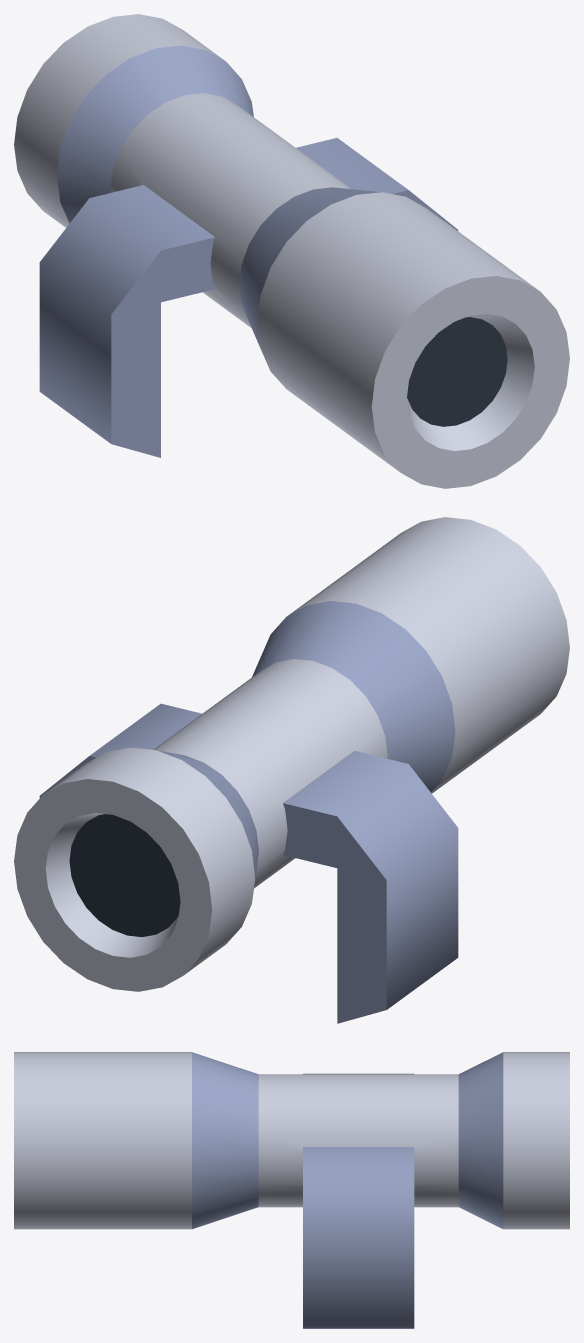
The model's file is scopeA.glb.
The picture shows the model from 3 angles, top to bottom: view 1: azimuth 30°, elevation 25°; view 2: azimuth 150°, elevation 25°; view 3: azimuth 270°, elevation 25°; orthographic projection. The views are drawn at different scales.
Visible parts, largest first — view 1: scopeA; view 2: scopeA; view 3: scopeA.
Boxes of the visible parts, x1,y1,x2,y2 form: scopeA: (14, 14, 569, 488); scopeA: (14, 517, 569, 1023); scopeA: (14, 1052, 569, 1328).
Size of the model in its own units: 0.14 by 0.11 by 0.25.
